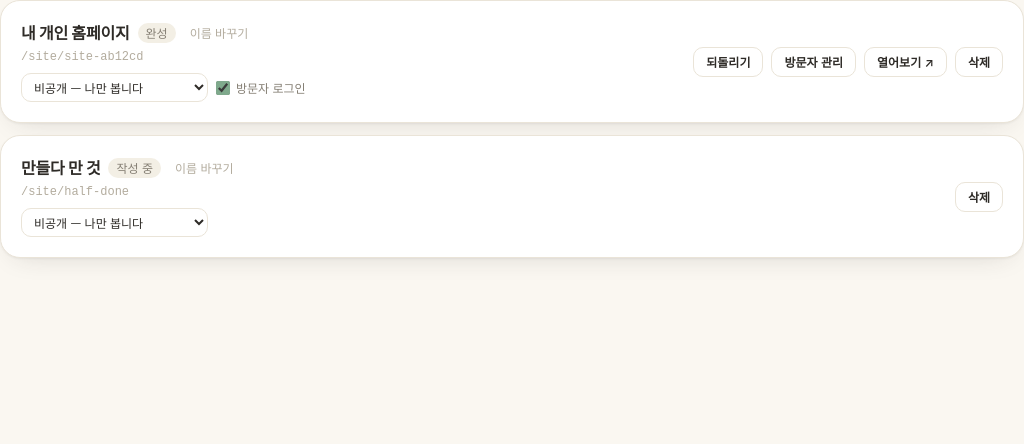
Test case: [P7-6d] 되돌리기 › 되돌리기를 누르면 버전 목록을 보여준다
The width and height of the screenshot is (1024, 444).
Click the button "되돌리기".
click(728, 62)  # box [693, 46, 764, 76]
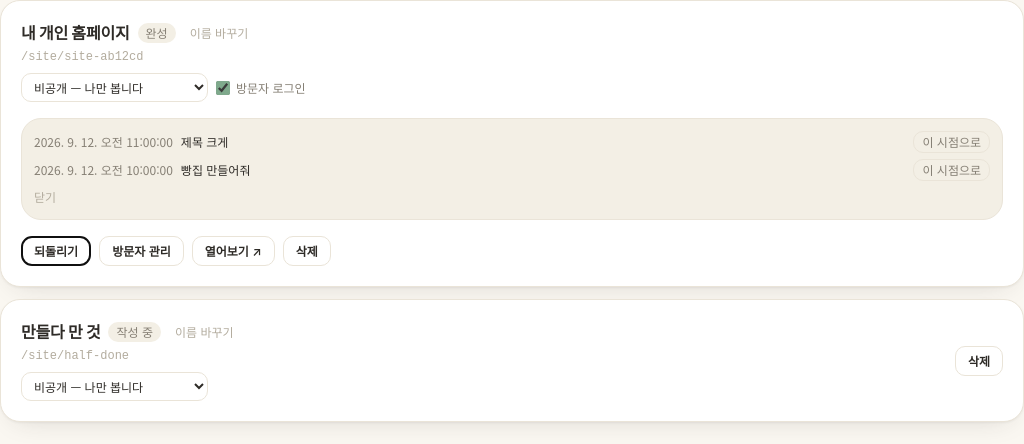
Expected: the text "제목 크게" is shown, [181, 133, 228, 150]
Expected: the text "빵집 만들어줘" is shown, [181, 161, 250, 178]
